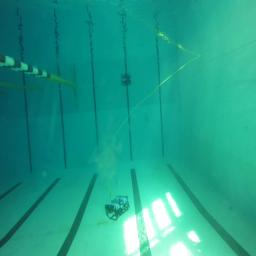Full: (104, 194, 130, 221), (120, 79, 132, 87)
